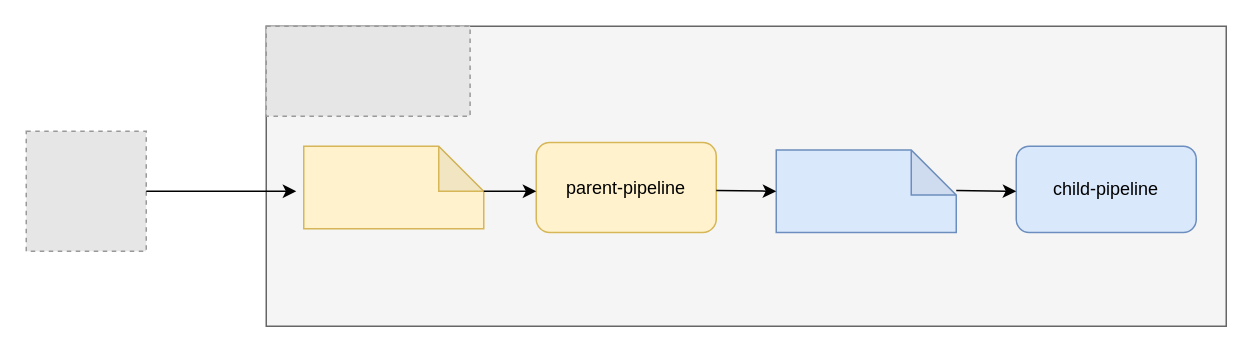
Image size: 1253x353. Some labels were removed from this diagram. Grey dashed boxes stand in for pictures. Here are the shapes that lost their labels. From the top down, the centre of each, then its label:
At pixel 393 187: "parent-pipeline .gitlab-ci.yml".
At pixel 865 190: "child-pipeline .gitlab-ci.yml".
